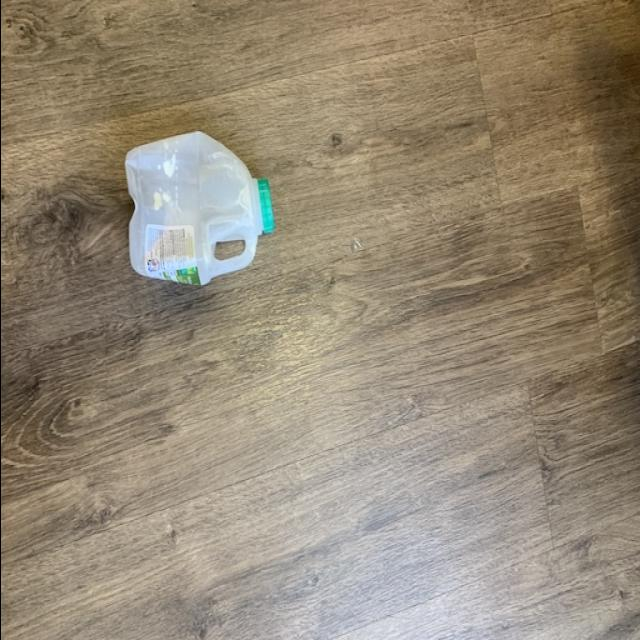HDPEM: (120, 139, 278, 291)
